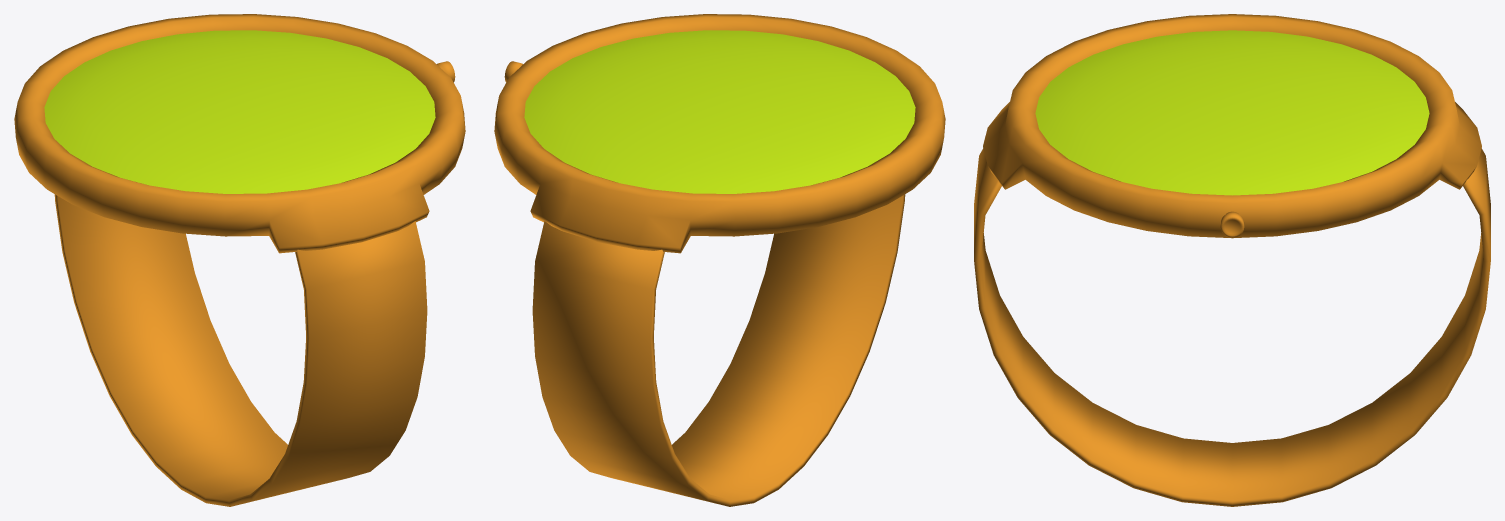
File: Watch.fbx
3 views of the same model, side by side, from view 1: azimuth 30°, elevation 25°; view 2: azimuth 150°, elevation 25°; view 3: azimuth 270°, elevation 25° (orthographic).
Parts seen in each view (by area): view 1: Strap, Glass, Base; view 2: Strap, Glass, Base; view 3: Glass, Strap, Base.
Boxes of the visible parts, x1,y1,x2,y2 form: Strap: (54,194,427,506); Glass: (44,30,435,193); Base: (14,14,465,253); Strap: (532,194,905,506); Glass: (524,30,915,193); Base: (494,14,945,253); Glass: (1035,30,1429,195); Strap: (974,148,1490,506); Base: (983,14,1481,238).
Bounding box in the file's own units: 210 × 188 × 231.
